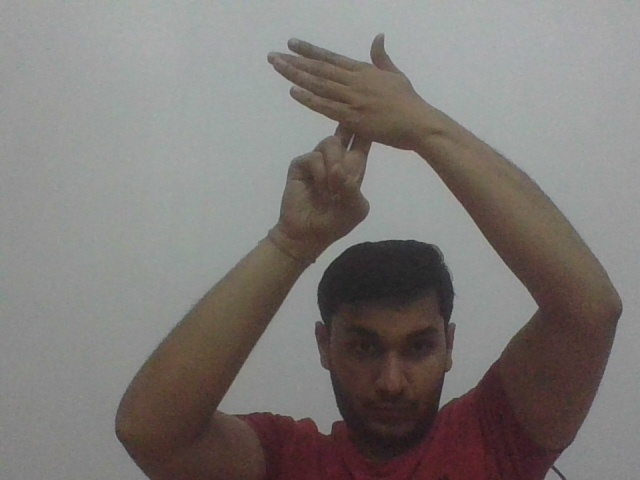N: (259, 29, 420, 170)
